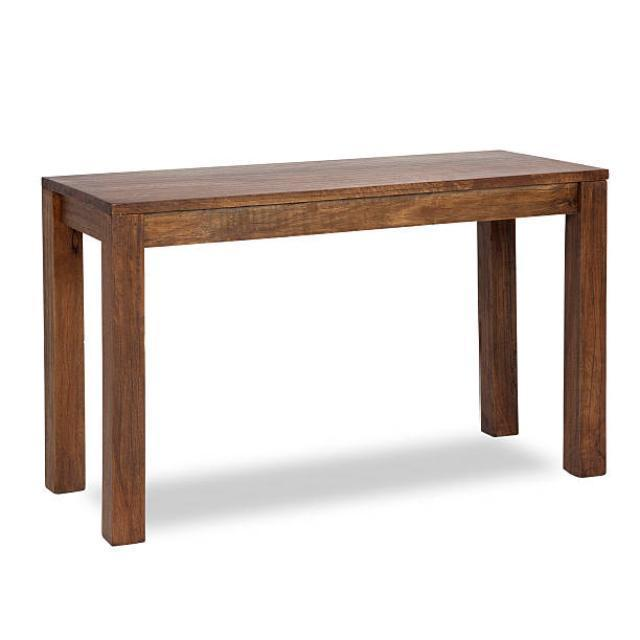table: (40, 147, 610, 546)
